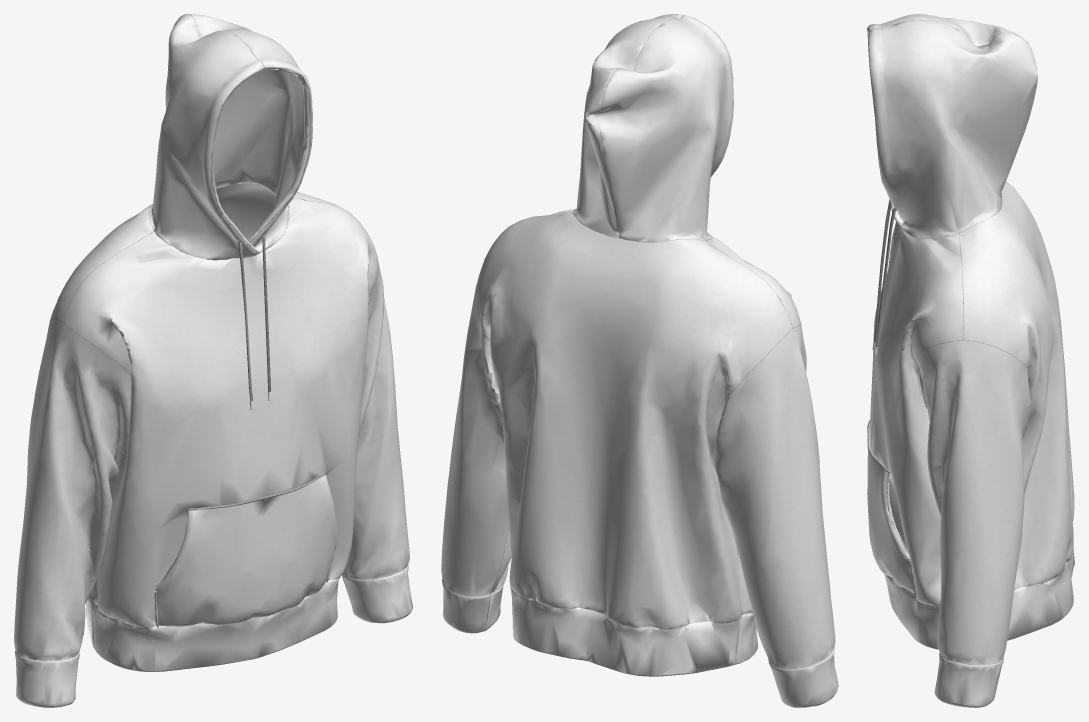
The model's file is hoodie_baked.glb.
The picture shows the model from 3 angles, left to right: view 1: azimuth 30°, elevation 25°; view 2: azimuth 150°, elevation 25°; view 3: azimuth 270°, elevation 25°; orthographic projection. The views are drawn at different scales.
Visible parts, largest first — view 1: Object_2; view 2: Object_2; view 3: Object_2.
Part boxes in pixels (x1,y1,x2,y2): Object_2: [14, 14, 412, 707]; Object_2: [441, 14, 838, 707]; Object_2: [867, 14, 1074, 707].
Size of the model in its own units: 0.6057 by 0.943 by 0.2937.
1 material, 1 textured.
